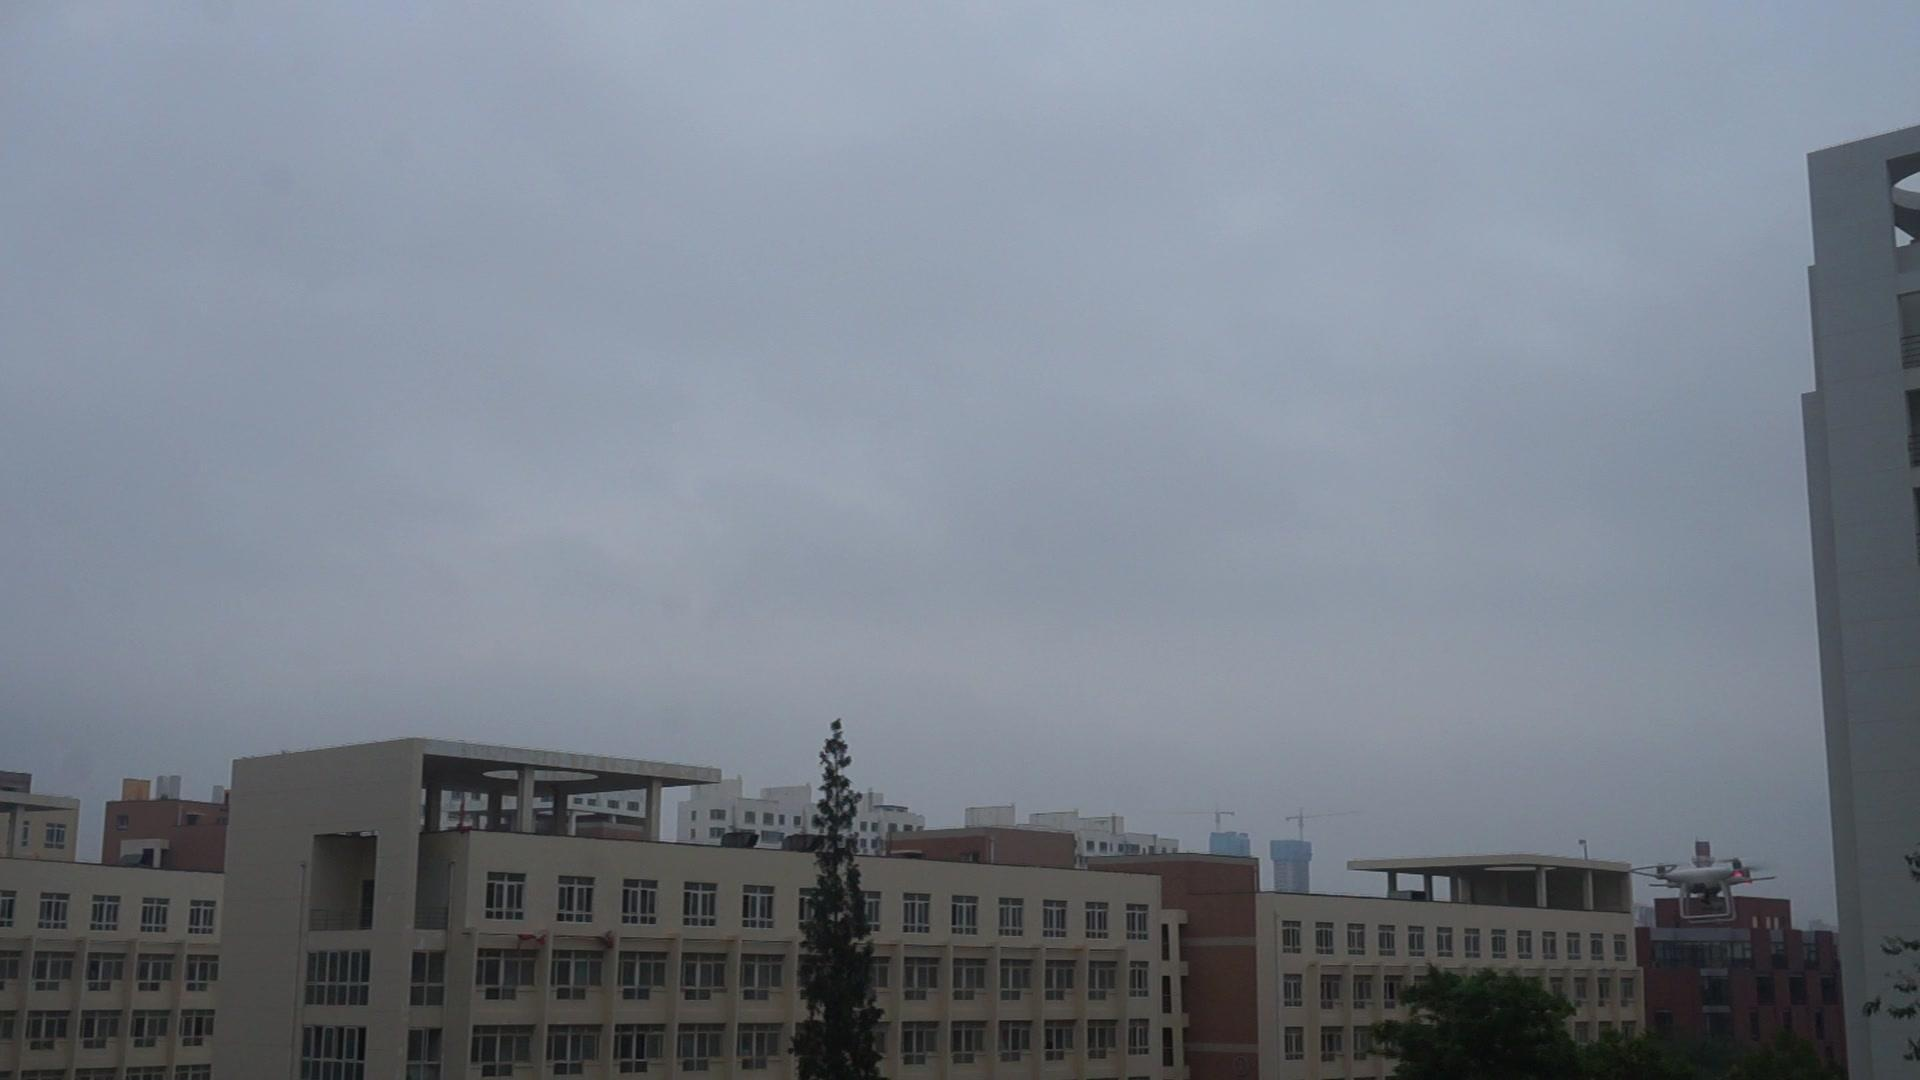UAV: (1633, 858, 1776, 924)
